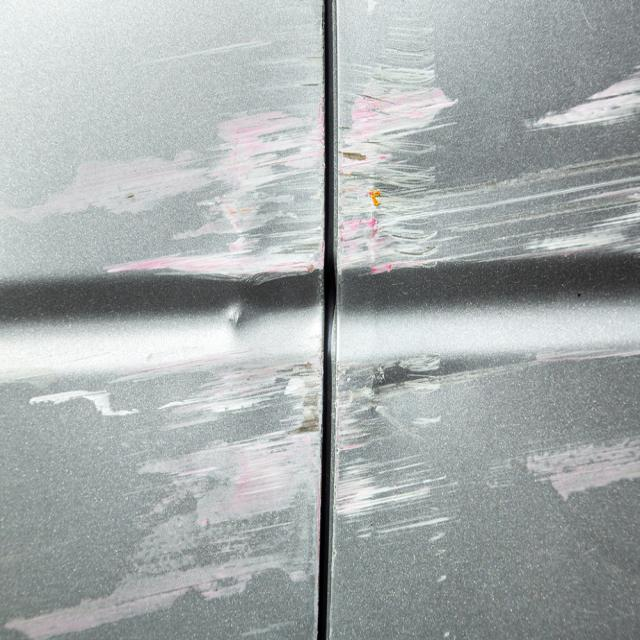scratch: (0, 0, 323, 640), (331, 0, 640, 580)
